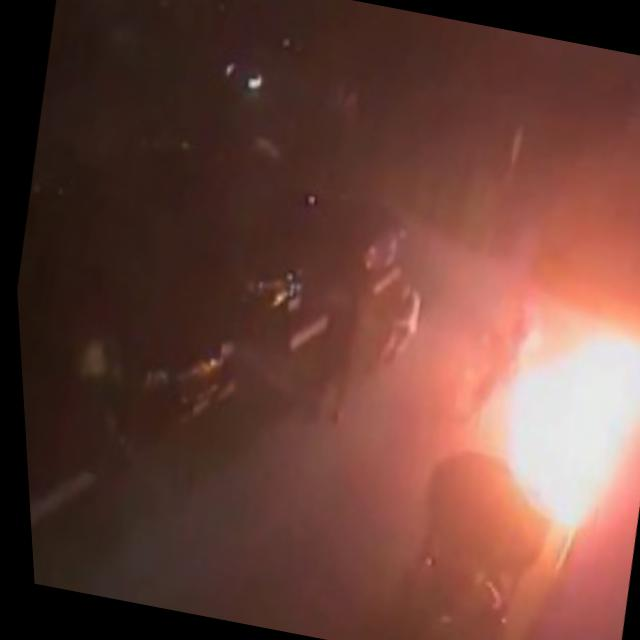fire: (504, 350, 616, 522)
